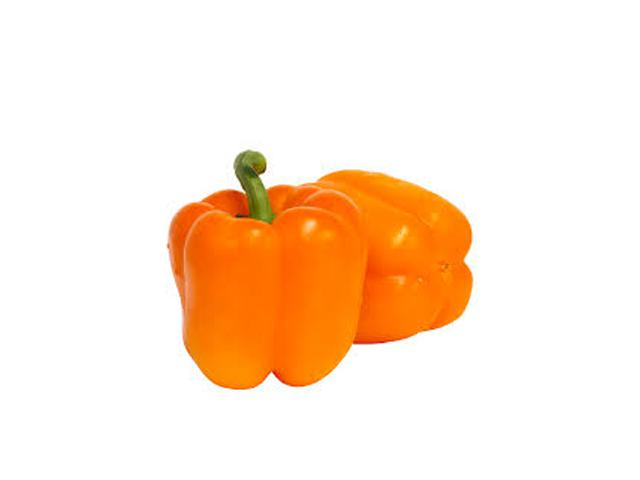bell_pepper: (296, 162, 485, 367)
